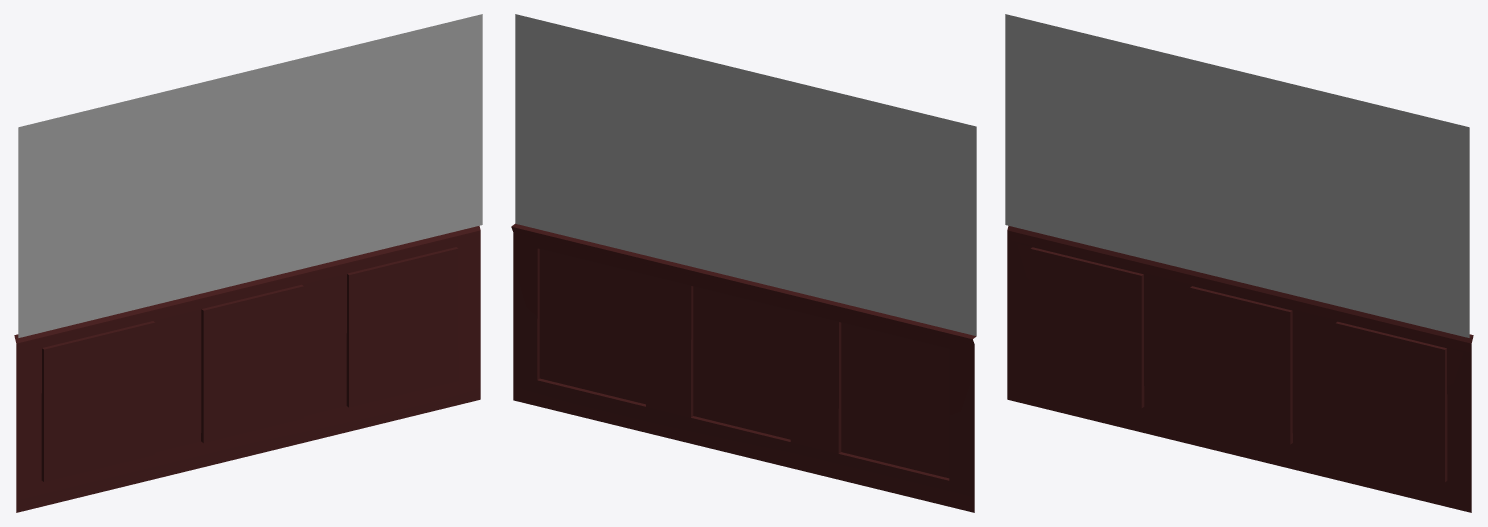
Rendered from Wall.fbx.
The picture shows the model from 3 angles, left to right: view 1: azimuth 30°, elevation 25°; view 2: azimuth 150°, elevation 25°; view 3: azimuth 330°, elevation 25°; orthographic projection.
Visible parts, largest first — view 1: WallOneSide2; view 2: WallOneSide2; view 3: WallOneSide2.
Part boxes in pixels (x1=…): WallOneSide2: x1=14, y1=14, x2=482, y2=512; WallOneSide2: x1=511, y1=14, x2=976, y2=512; WallOneSide2: x1=1005, y1=14, x2=1473, y2=512.
Size of the model in its own units: 4 by 3.19 by 0.0649.
